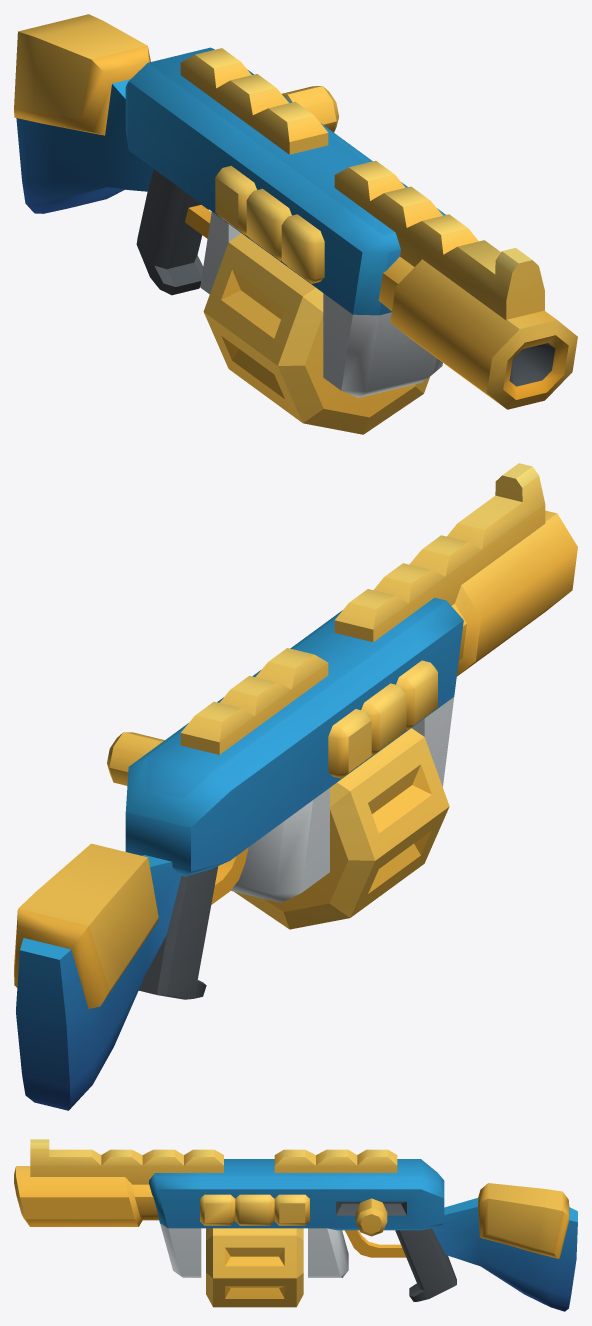
The model's file is Gun_Rifle.gltf.
3 views of the same model, one above another, from view 1: azimuth 30°, elevation 25°; view 2: azimuth 150°, elevation 25°; view 3: azimuth 270°, elevation 25° (orthographic). The views are drawn at different scales.
Visible parts, largest first — view 1: Gun_Rifle, Gun_Rifle_Magazine; view 2: Gun_Rifle, Gun_Rifle_Magazine; view 3: Gun_Rifle, Gun_Rifle_Magazine.
Boxes of the visible parts, x1,y1,x2,y2 form: Gun_Rifle: (14, 14, 577, 409); Gun_Rifle_Magazine: (203, 233, 429, 434); Gun_Rifle: (14, 463, 577, 1110); Gun_Rifle_Magazine: (234, 728, 449, 929); Gun_Rifle: (14, 1139, 577, 1311); Gun_Rifle_Magazine: (206, 1228, 303, 1307).
Size of the model in its own units: 0.3661 by 0.5364 by 1.65.
1 material, 1 textured.
